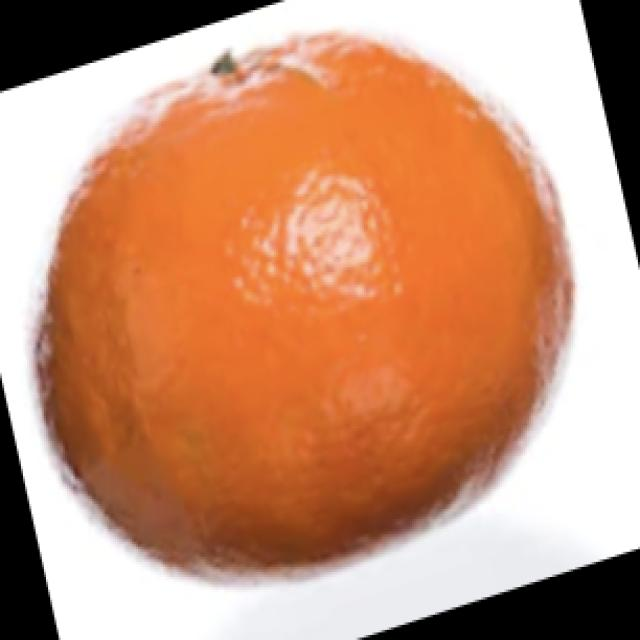matang: (32, 50, 572, 584)
